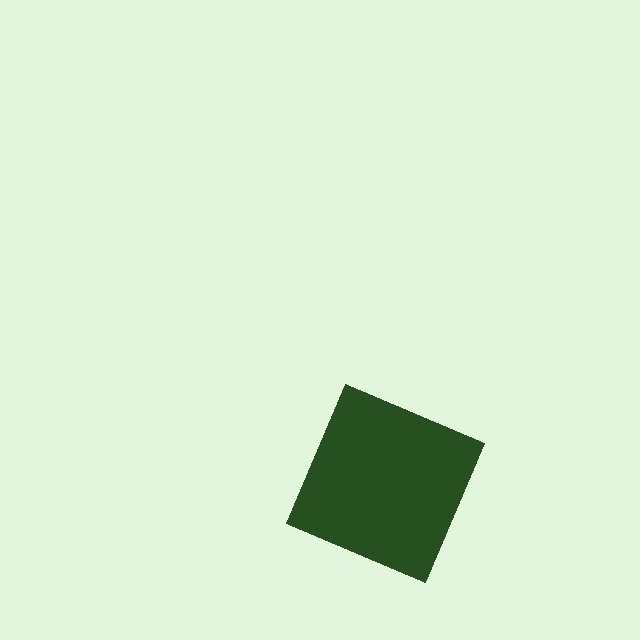square: (285, 383, 484, 582)
